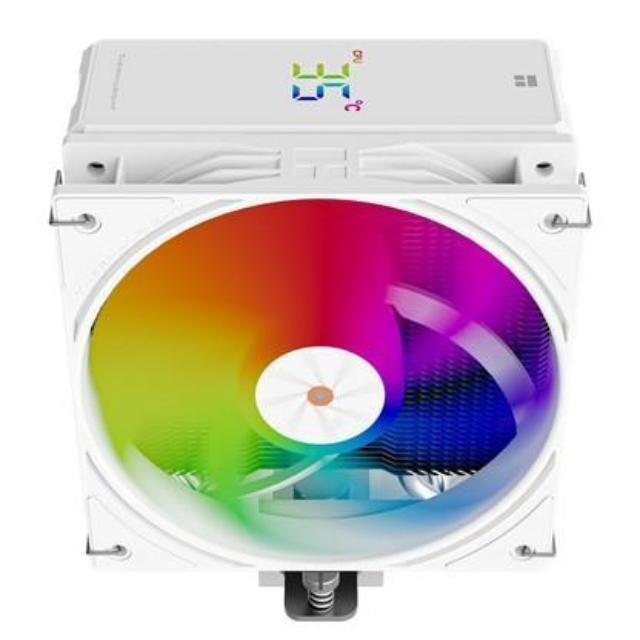CPU_Fan: (41, 36, 590, 578)
